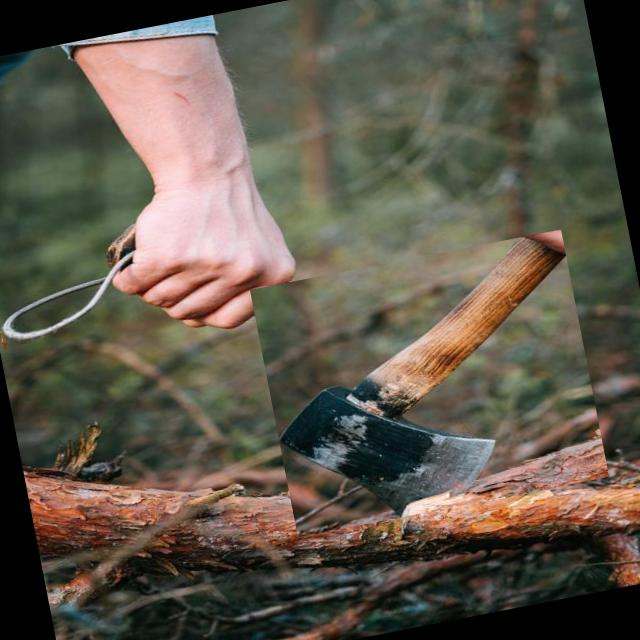Axe: (279, 237, 567, 517)
